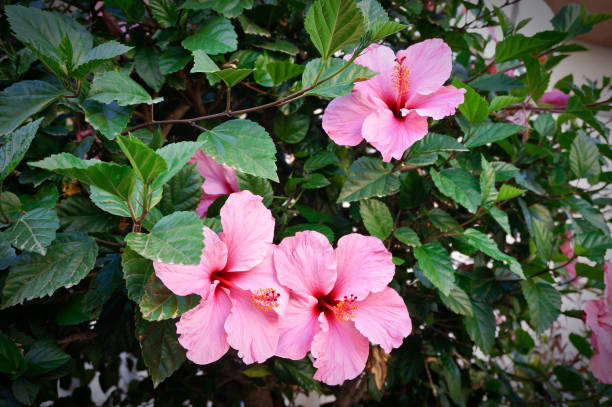Hibiscus: (153, 216, 421, 374), (304, 34, 483, 158), (190, 134, 249, 211)
